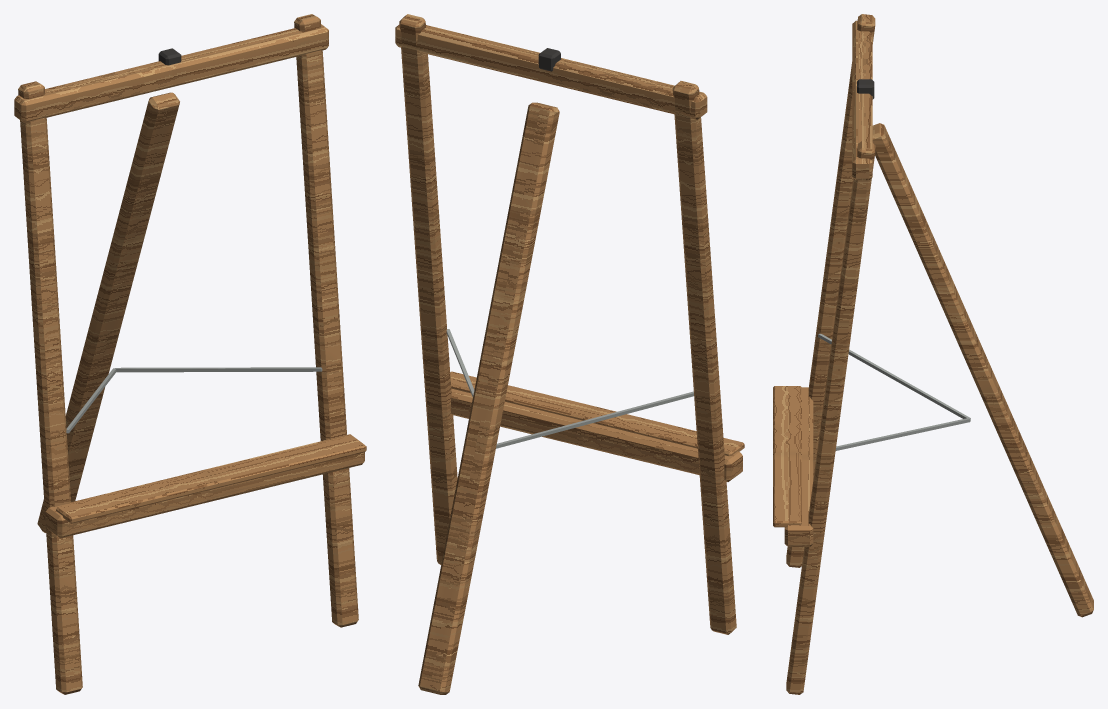
The model's file is menu_easel.glb.
The picture shows the model from 3 angles, left to right: view 1: azimuth 30°, elevation 25°; view 2: azimuth 150°, elevation 25°; view 3: azimuth 270°, elevation 25°; orthographic projection. The views are drawn at different scales.
Parts seen in each view (by area): view 1: p; view 2: p; view 3: p.
Part boxes in pixels (x1,y1,x2,y2): p: (14, 14, 366, 694); p: (395, 14, 744, 694); p: (773, 14, 1093, 694).
Bounding box in the file's own units: 0.58 × 1.04 × 0.5553.
3 materials, 3 textured.
